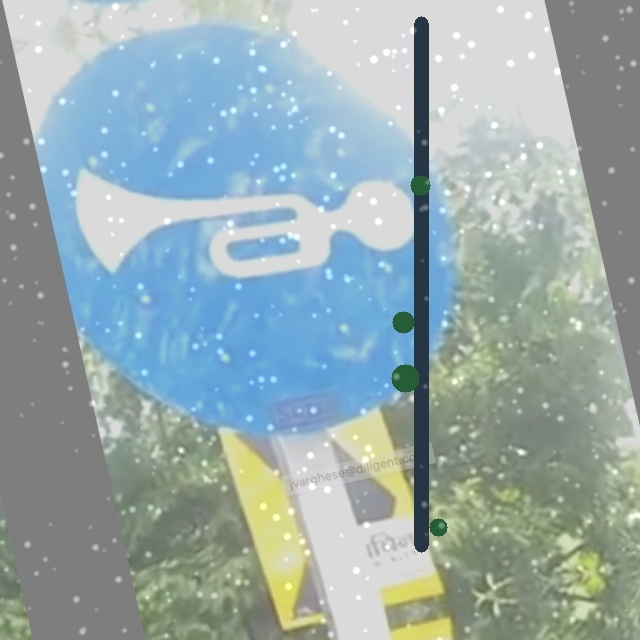Compulsory_Sound_Horn: (38, 25, 448, 402)
